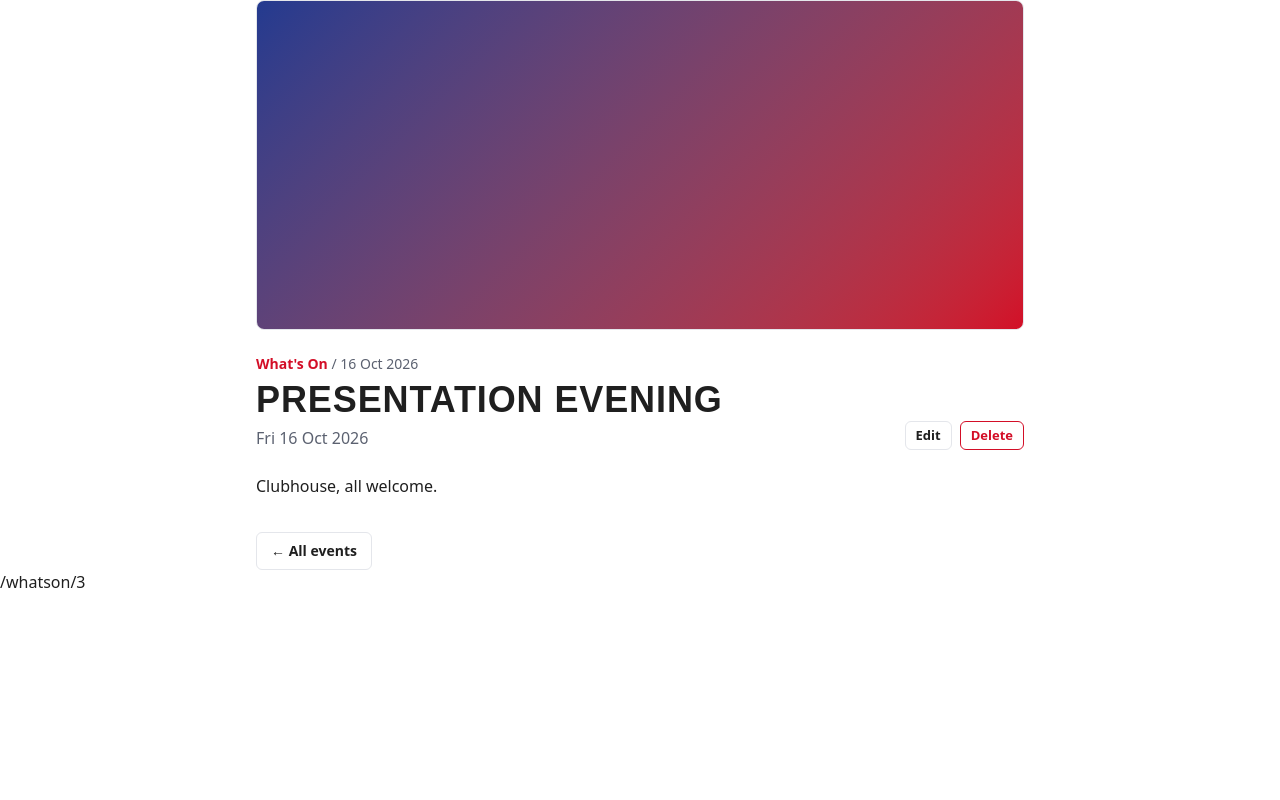
What's On editing › deletes an event after confirming
Click the button "Delete" at (992,436), box [960,421,1024,450]
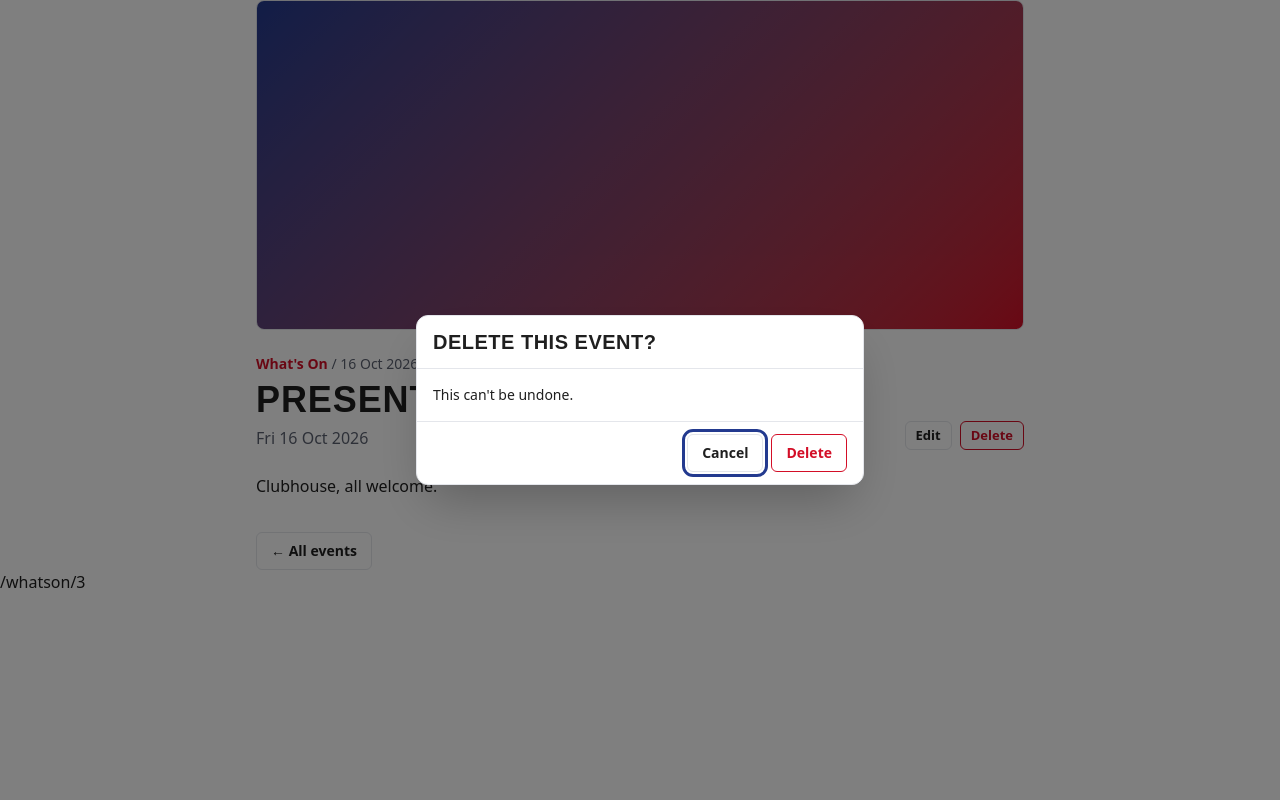
Click the button "Delete" below "This can't be undone." at (809,453), box [772,434,847,472]
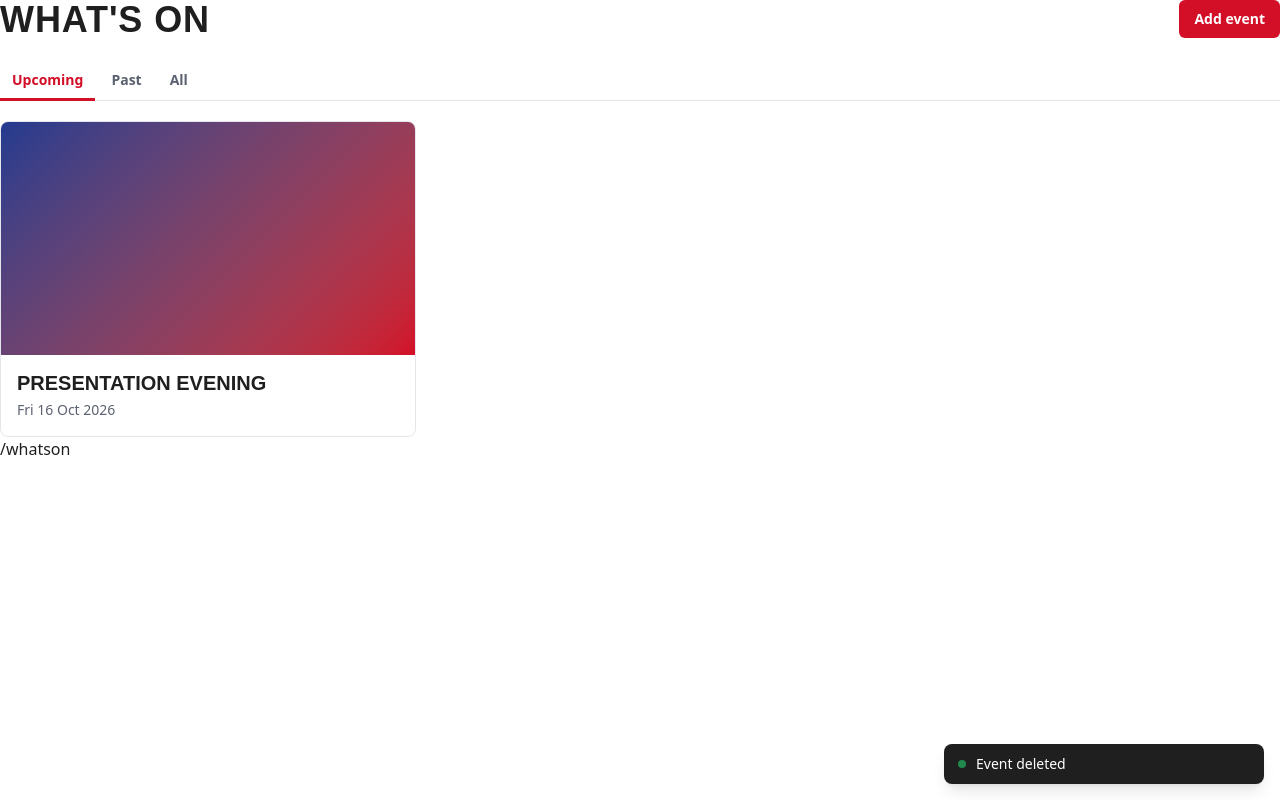
Expected: the text with test id "location" reads "/whatson", [0,438,70,460]
